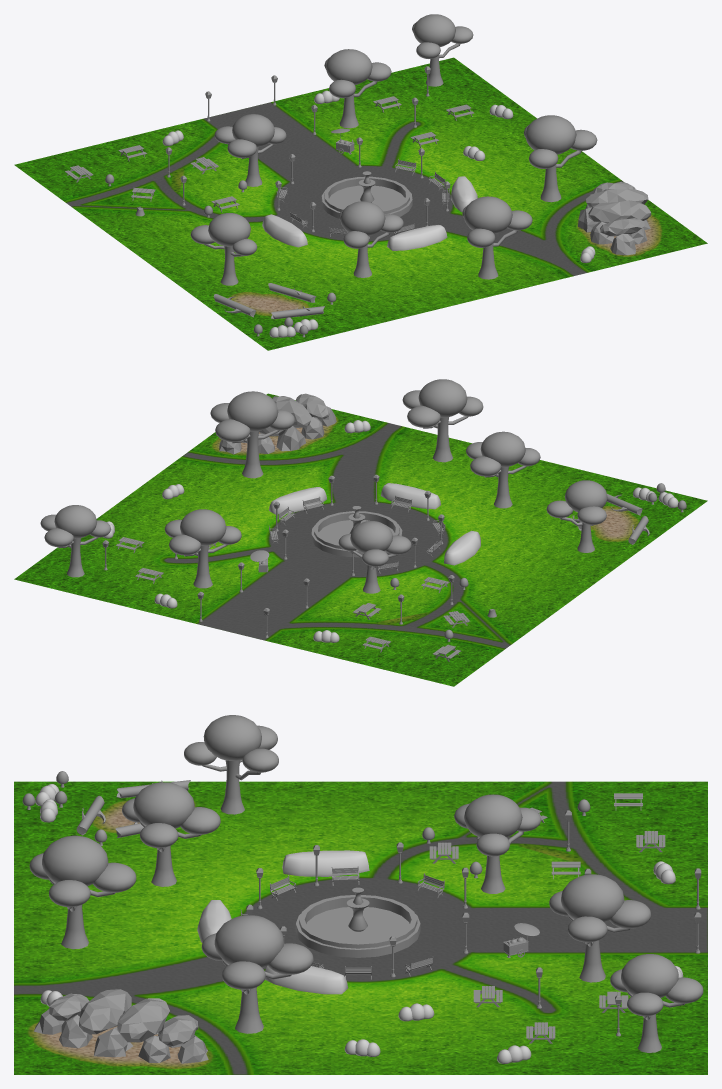
Rendered from New_Field_2.FBX.
The picture shows the model from 3 angles, top to bottom: view 1: azimuth 30°, elevation 25°; view 2: azimuth 150°, elevation 25°; view 3: azimuth 270°, elevation 25°; orthographic projection. The views are drawn at different scales.
Parts seen in each view (by area): view 1: Plane001, Hunnebed, Tree003, Tree006, Fontain, Tree004, Tree, Tree002, Tree001, Tree005, Hage, Hage001 (+1 smaller); view 2: Plane001, Tree003, Tree006, Tree004, Hunnebed, Tree002, Tree005, Tree, Tree001, Fontain, Hage, Hage002 (+1 smaller); view 3: Plane001, Hunnebed, Fontain, Tree003, Tree006, Tree004, Tree002, Tree001, Tree005, Tree, Hage001, Hage002 (+2 smaller).
Boxes of the visible parts, x1=… form: Plane001: x1=14, y1=57, x2=707, y2=350; Hunnebed: x1=578, y1=182, x2=651, y2=255; Tree003: x1=523, y1=115, x2=597, y2=202; Tree006: x1=462, y1=196, x2=532, y2=279; Fontain: x1=321, y1=171, x2=412, y2=218; Tree004: x1=324, y1=49, x2=391, y2=128; Tree: x1=214, y1=114, x2=286, y2=186; Tree002: x1=339, y1=201, x2=403, y2=277; Tree001: x1=190, y1=213, x2=257, y2=285; Tree005: x1=412, y1=14, x2=473, y2=86; Hage: x1=387, y1=225, x2=447, y2=250; Hage001: x1=262, y1=214, x2=307, y2=247; Plane001: x1=14, y1=393, x2=707, y2=686; Tree003: x1=210, y1=391, x2=294, y2=478; Tree006: x1=402, y1=379, x2=483, y2=462; Tree004: x1=164, y1=509, x2=241, y2=588; Hunnebed: x1=219, y1=393, x2=336, y2=454; Tree002: x1=466, y1=431, x2=540, y2=508; Tree005: x1=40, y1=505, x2=110, y2=577; Tree: x1=338, y1=521, x2=411, y2=593; Tree001: x1=546, y1=480, x2=607, y2=552; Fontain: x1=311, y1=506, x2=402, y2=557; Hage: x1=380, y1=483, x2=440, y2=509; Hage002: x1=269, y1=487, x2=326, y2=514; Plane001: x1=14, y1=781, x2=707, y2=1074; Hunnebed: x1=34, y1=989, x2=208, y2=1063; Fontain: x1=295, y1=887, x2=420, y2=957; Tree003: x1=201, y1=915, x2=313, y2=1033; Tree006: x1=29, y1=835, x2=136, y2=949; Tree004: x1=549, y1=874, x2=650, y2=982; Tree002: x1=122, y1=782, x2=220, y2=886; Tree001: x1=184, y1=715, x2=278, y2=814; Tree005: x1=610, y1=954, x2=703, y2=1052; Tree: x1=454, y1=794, x2=541, y2=893; Hage001: x1=282, y1=850, x2=369, y2=876; Hage002: x1=265, y1=965, x2=348, y2=994.
Size of the model in its own units: 200 by 36.39 by 200.
